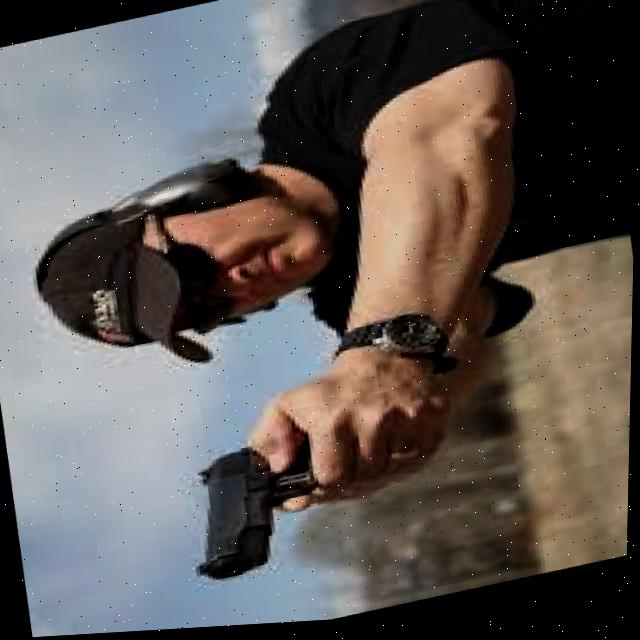pistol: (182, 436, 331, 587)
